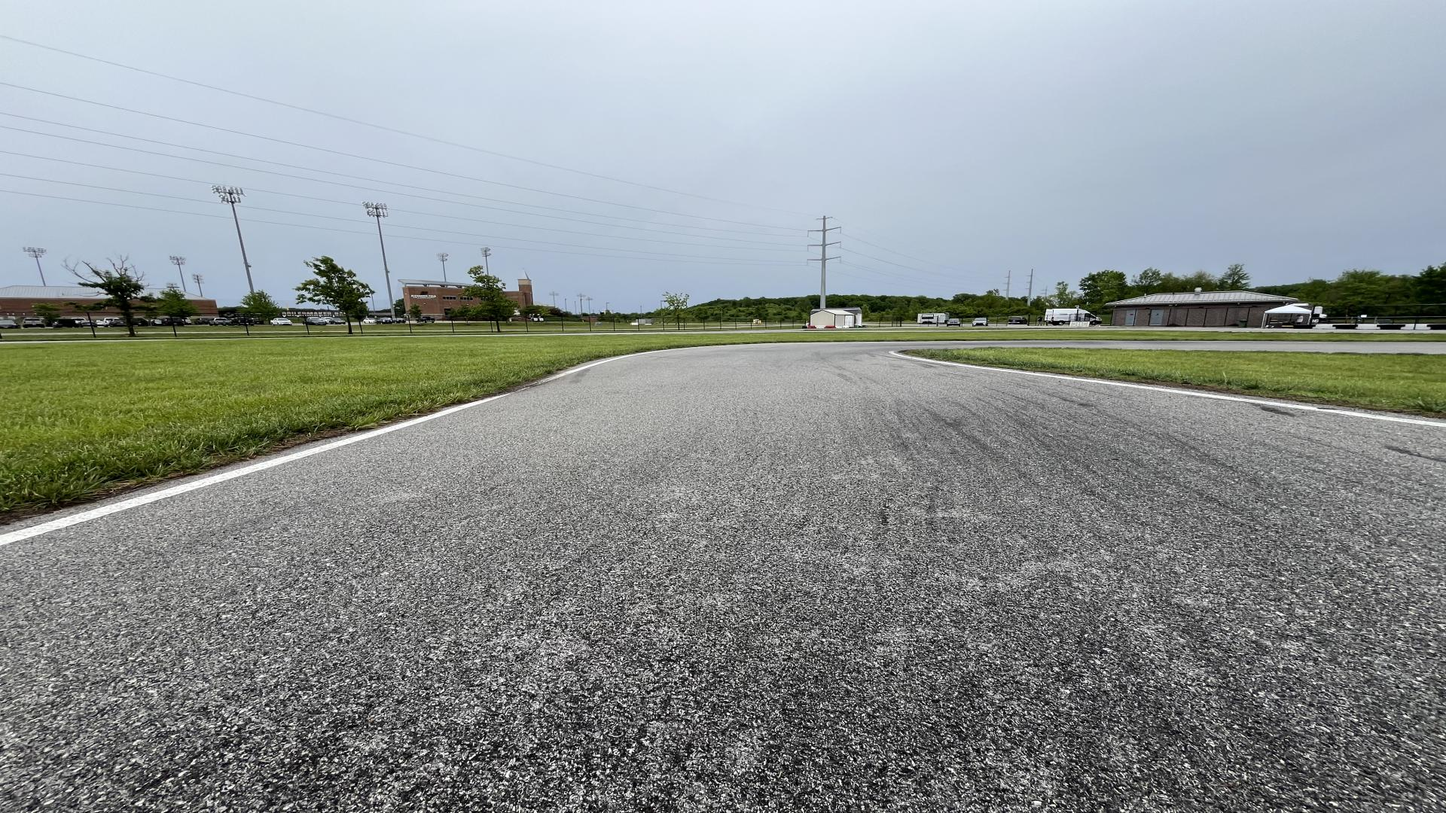white-line: (0, 388, 529, 545), (889, 351, 1445, 428), (541, 340, 1069, 382)
